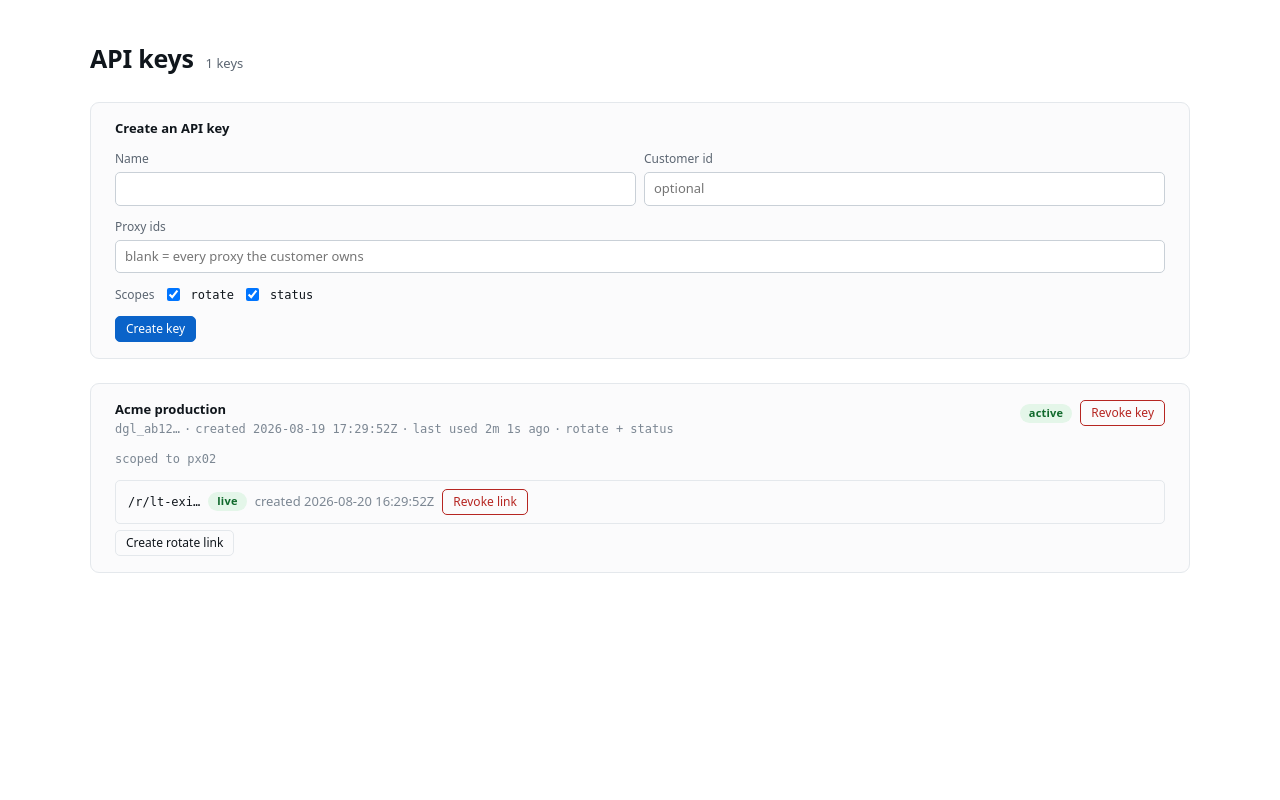
Scenario: api keys › creates a rotate link and shows it once
The image size is (1280, 800).
Expected: the text "Acme production" is shown, [115,400,226,418]
Click the button "Create rotate link": (175, 542) [115,530,234,556]
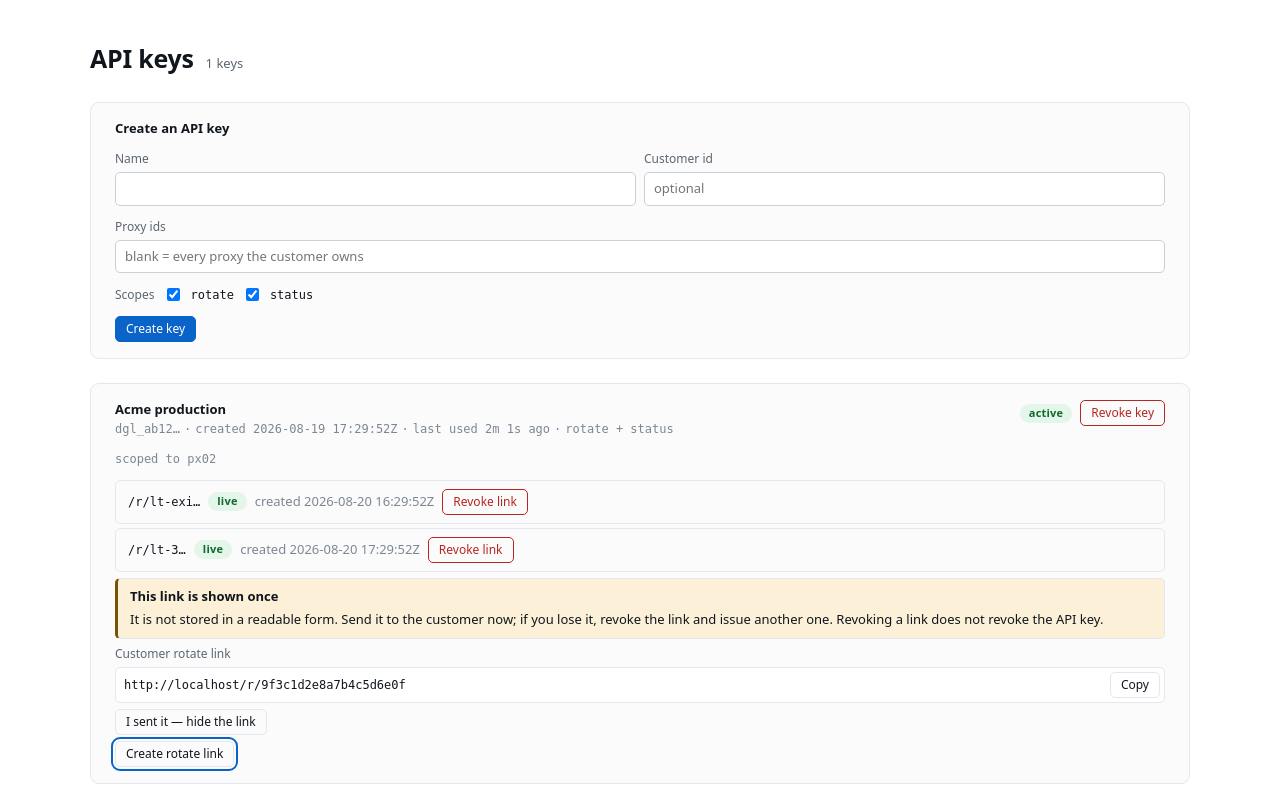
Result: the text "/r/9f3c1d2e8a7b4c5d6e0f" is shown at [124,678,406,692]
Result: the text "This link is shown once" is shown at [130,586,278,604]
Click the button "I sent it — hide the link": (191, 722) [115,708,267,734]
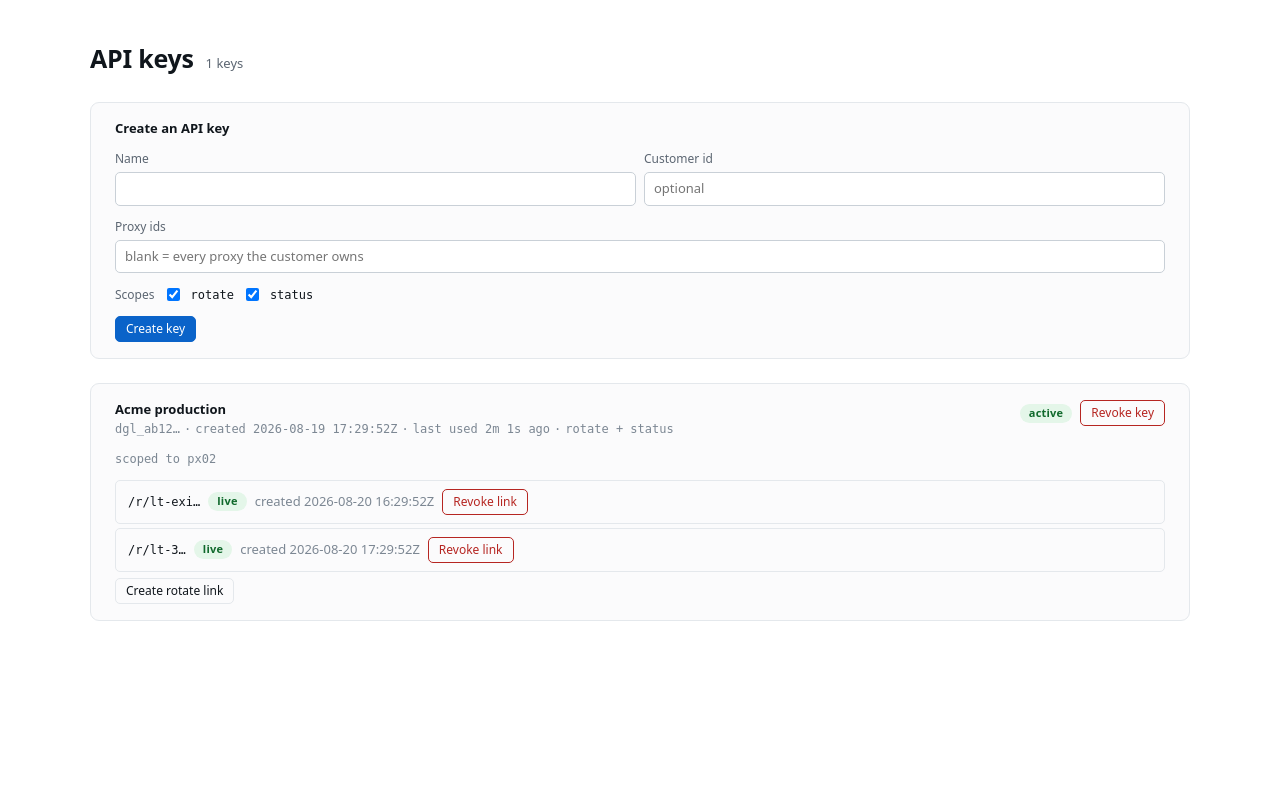
Result: the text "9f3c1d2e8a7b4c5d6e0f" is gone
